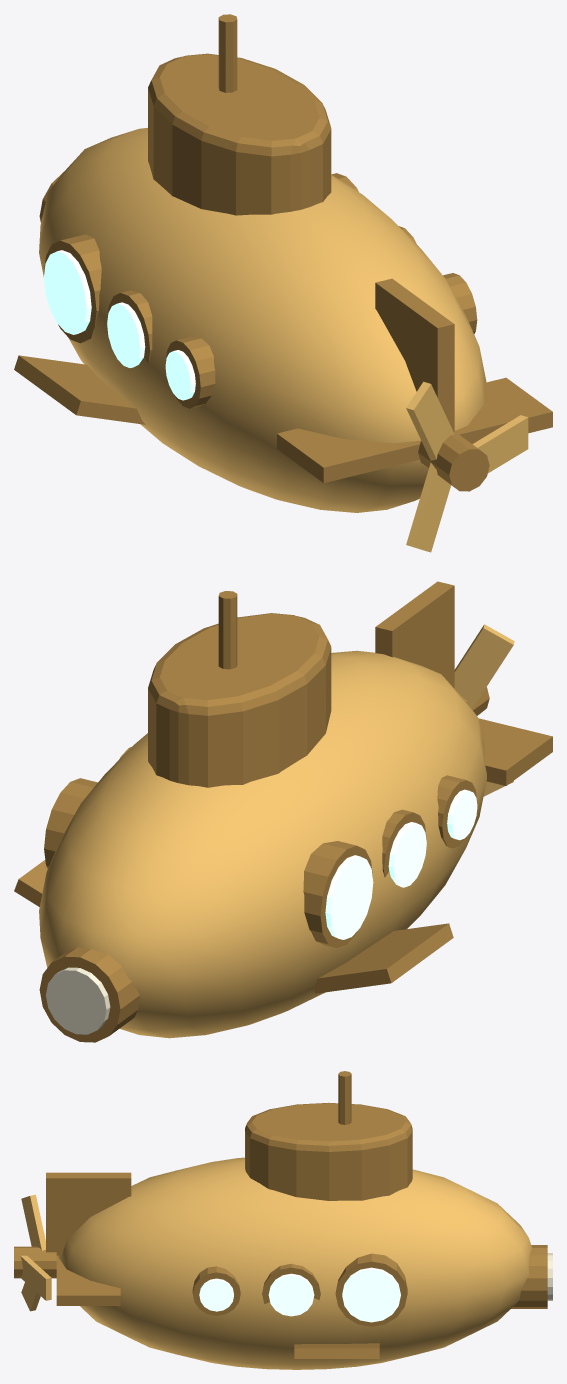
3 renders of one model, top to bottom at view 1: azimuth 30°, elevation 25°; view 2: azimuth 150°, elevation 25°; view 3: azimuth 270°, elevation 25°, orthographic. The views are drawn at different scales.
Visible parts, largest first — view 1: Hull, Propeller; view 2: Hull, Lamp, Propeller; view 3: Hull, Propeller.
Part boxes in pixels (<box>): Hull: <box>14,14,552,512</box>; Propeller: <box>406,381,528,552</box>; Hull: <box>14,581,552,1042</box>; Lamp: <box>46,967,110,1034</box>; Propeller: <box>454,624,514,796</box>; Hull: <box>46,1071,547,1369</box>; Propeller: <box>14,1194,56,1311</box>.
Bounding box in the file's own units: 1.12 × 1.18 × 2.02.
